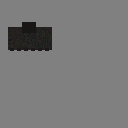personnel: (8, 27, 52, 50)
